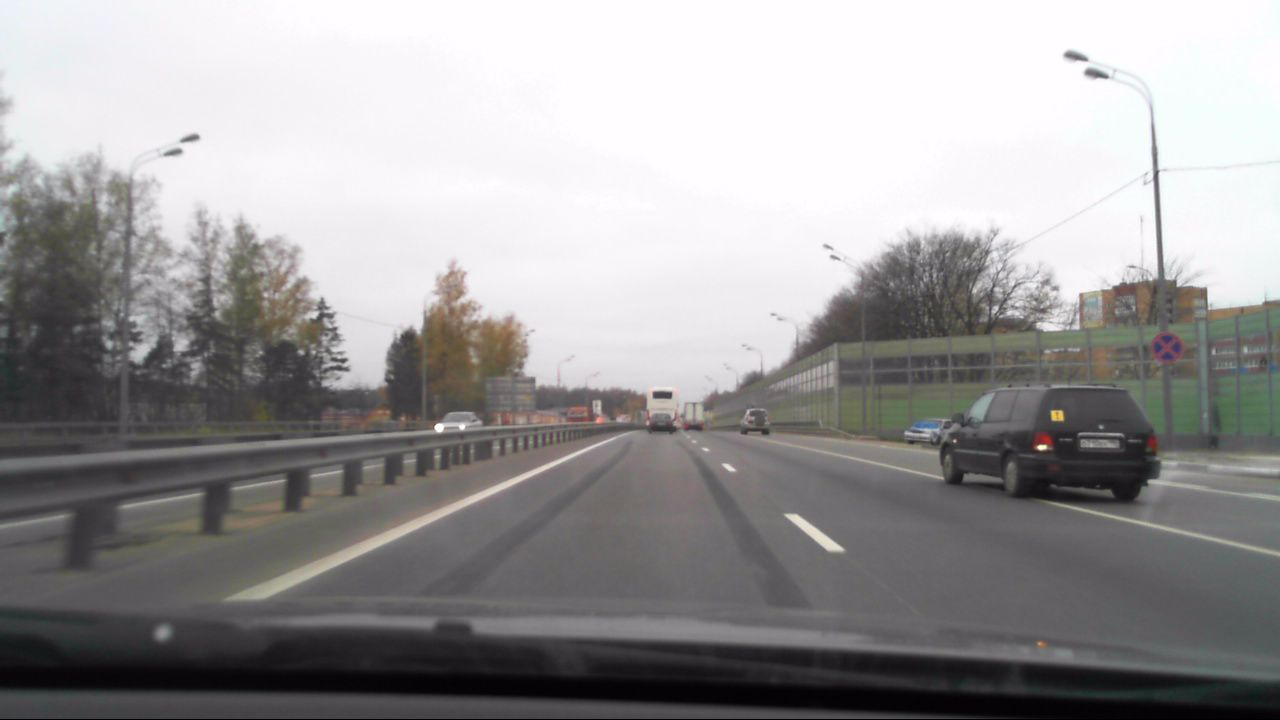No Parking: (1150, 334, 1183, 363)
